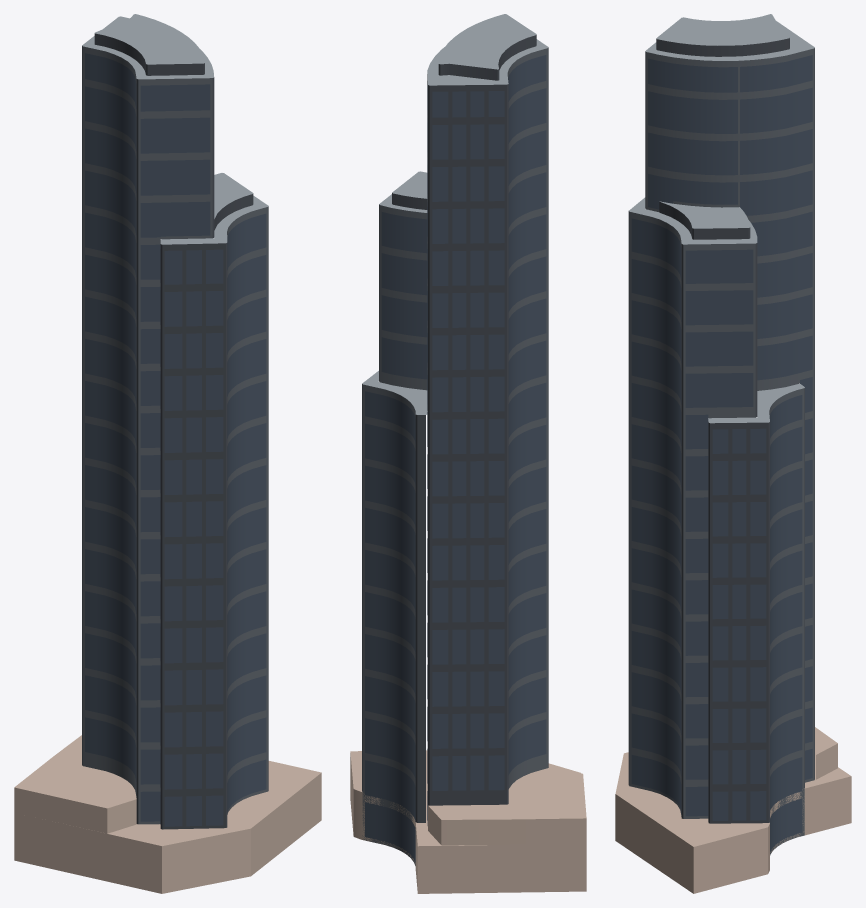
3 views of the same model, side by side, from view 1: azimuth 30°, elevation 25°; view 2: azimuth 150°, elevation 25°; view 3: azimuth 270°, elevation 25° (orthographic).
Parts seen in each view (by area): view 1: columbia-center; view 2: columbia-center; view 3: columbia-center.
Part boxes in pixels (<box>): columbia-center: <box>14,14,321,893</box>; columbia-center: <box>350,14,586,893</box>; columbia-center: <box>615,14,851,893</box>.
Bounding box in the file's own units: 101 × 286 × 77.45.
